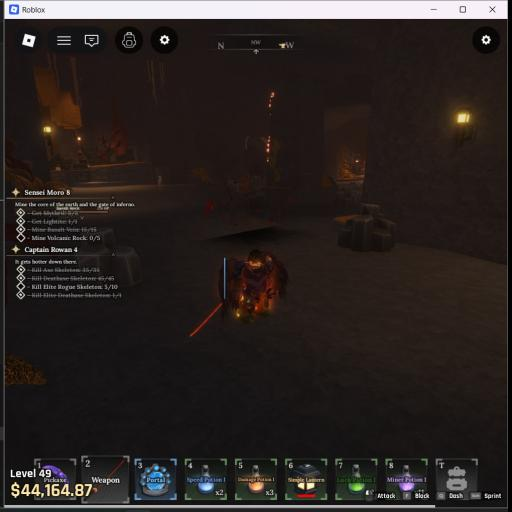player: (222, 250, 288, 322)
rock: (76, 228, 142, 286), (338, 204, 396, 252)
